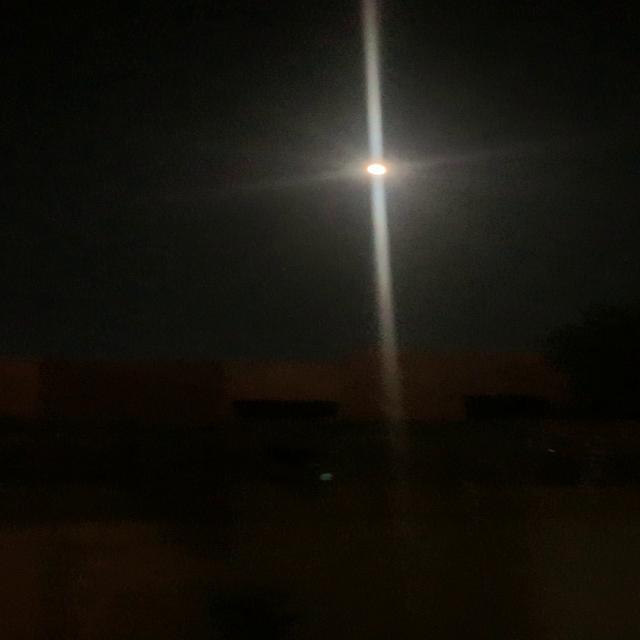moon: (348, 153, 408, 186)
